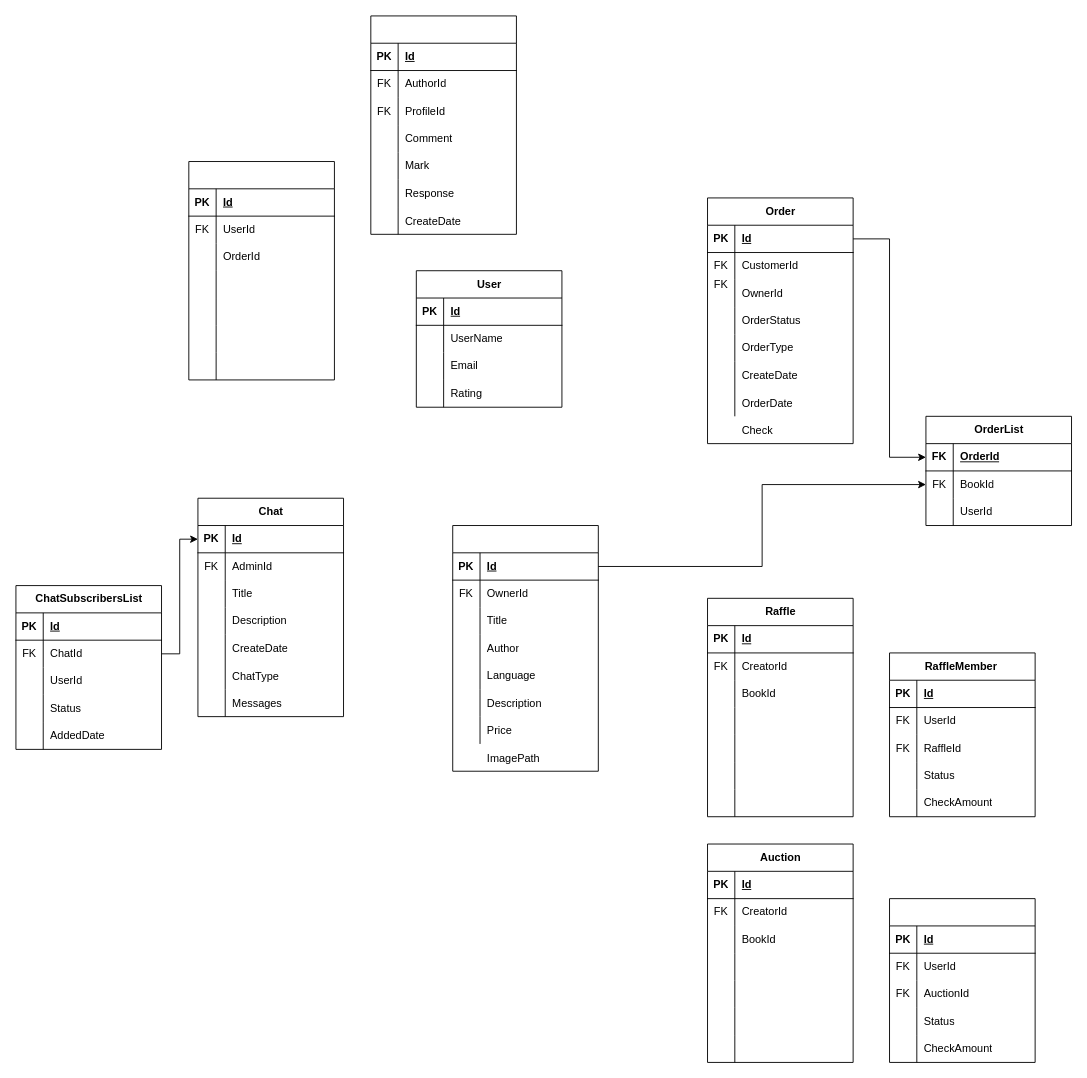
Some shapes in this 1087 by 1078 pixel diagram are drawn without their labels. The shapes that lost their labels are listed below. From the top down, each one's box as (x1, y1, x2, y2) in pixels, then its label:
(370, 15, 516, 234): ProfileComment
(188, 161, 334, 380): History
(452, 525, 598, 771): Book
(889, 898, 1035, 1062): AuctionMember
